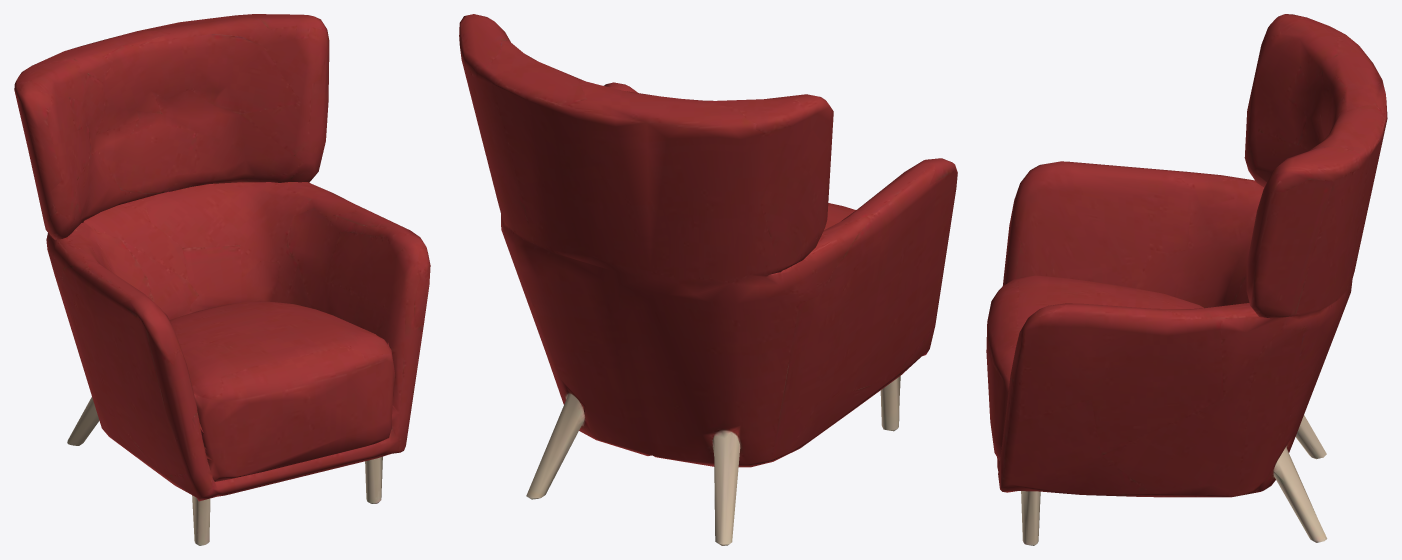
File: 05 - OSKARSHAMN - 扶手椅，Tonerud 紅色 IKEA 線上購物.glb
3 views of the same model, side by side, from view 1: azimuth 30°, elevation 25°; view 2: azimuth 150°, elevation 25°; view 3: azimuth 270°, elevation 25° (orthographic). The views are drawn at different scales.
Visible parts, largest first — view 1: model; view 2: model; view 3: model.
Part boxes in pixels (box(x1,y1,x2,y2)): model: box(14, 14, 430, 545); model: box(459, 14, 957, 545); model: box(986, 14, 1387, 545).
Bounding box in the file's own units: 0.8338 × 0.993 × 0.8788.
Materials: 1 (1 with a texture image).
